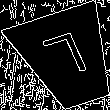L_S: (40, 30, 96, 88)
